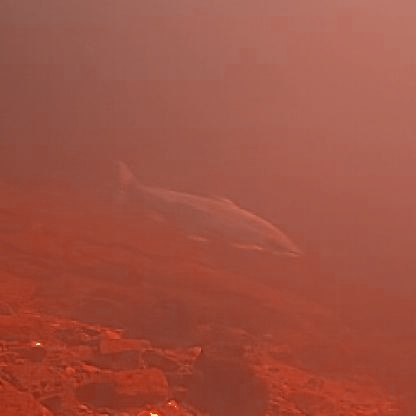salmon: (101, 154, 305, 262)
